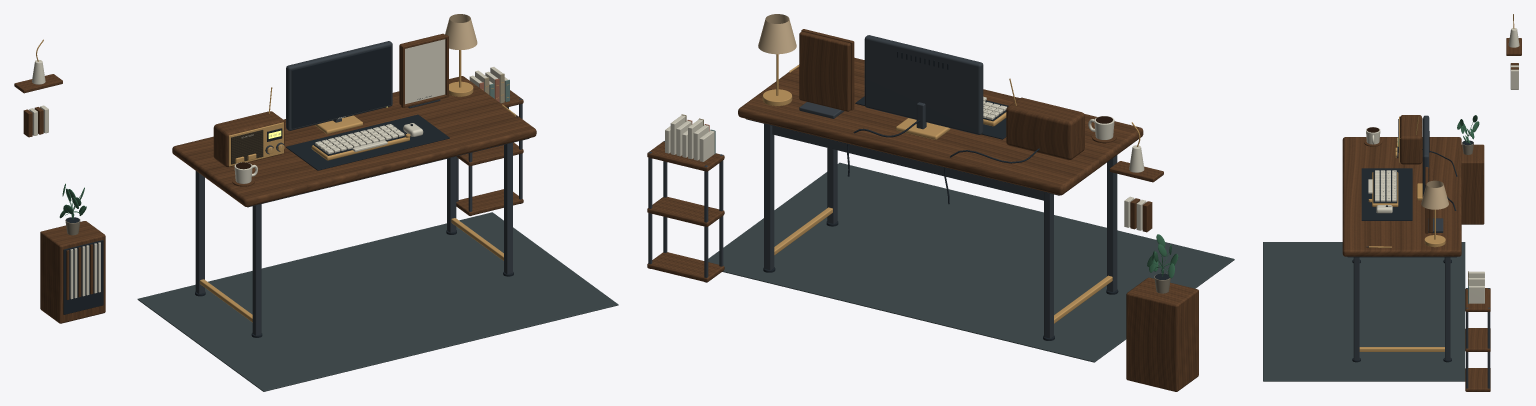
File: desk-studio.glb
The picture shows the model from 3 angles, left to right: view 1: azimuth 30°, elevation 25°; view 2: azimuth 150°, elevation 25°; view 3: azimuth 270°, elevation 25°; orthographic projection. The views are drawn at different scales.
Visible parts, largest first — view 1: Scenery__finish, Desk__finish, Computer__finish, PhotoDisplay__finish, Radio__finish, KeyboardKey__finish, Lamp__finish, Accessories__finish; view 2: Scenery__finish, Desk__finish, Computer__finish, PhotoDisplay__finish, Radio__finish, Lamp__finish, Accessories__finish, KeyboardKey__finish; view 3: Scenery__finish, Desk__finish, Radio__finish, KeyboardKey__finish, Lamp__finish, Computer__finish, PhotoDisplay__finish, Accessories__finish.
Boxes of the visible parts, x1,y1,x2,y2 form: Scenery__finish: [14, 39, 618, 391]; Desk__finish: [172, 76, 536, 337]; Computer__finish: [286, 41, 392, 134]; PhotoDisplay__finish: [399, 33, 448, 108]; Radio__finish: [213, 87, 284, 167]; KeyboardKey__finish: [311, 123, 423, 160]; Lamp__finish: [445, 14, 477, 96]; Accessories__finish: [232, 104, 517, 186]; Scenery__finish: [647, 114, 1234, 391]; Desk__finish: [738, 57, 1143, 340]; Computer__finish: [864, 35, 983, 139]; PhotoDisplay__finish: [799, 29, 854, 118]; Radio__finish: [1006, 78, 1084, 160]; Lamp__finish: [758, 14, 796, 106]; Accessories__finish: [789, 64, 1116, 204]; KeyboardKey__finish: [983, 96, 1006, 126]; Scenery__finish: [1263, 14, 1521, 391]; Desk__finish: [1342, 137, 1461, 362]; Radio__finish: [1395, 115, 1422, 164]; KeyboardKey__finish: [1368, 170, 1398, 213]; Lamp__finish: [1421, 180, 1448, 247]; Computer__finish: [1417, 115, 1429, 200]; PhotoDisplay__finish: [1425, 167, 1443, 233]; Accessories__finish: [1364, 127, 1457, 247].
Size of the model in its own units: 17.38 by 8.89 by 10.23.
Materials: 19 (2 with a texture image).
